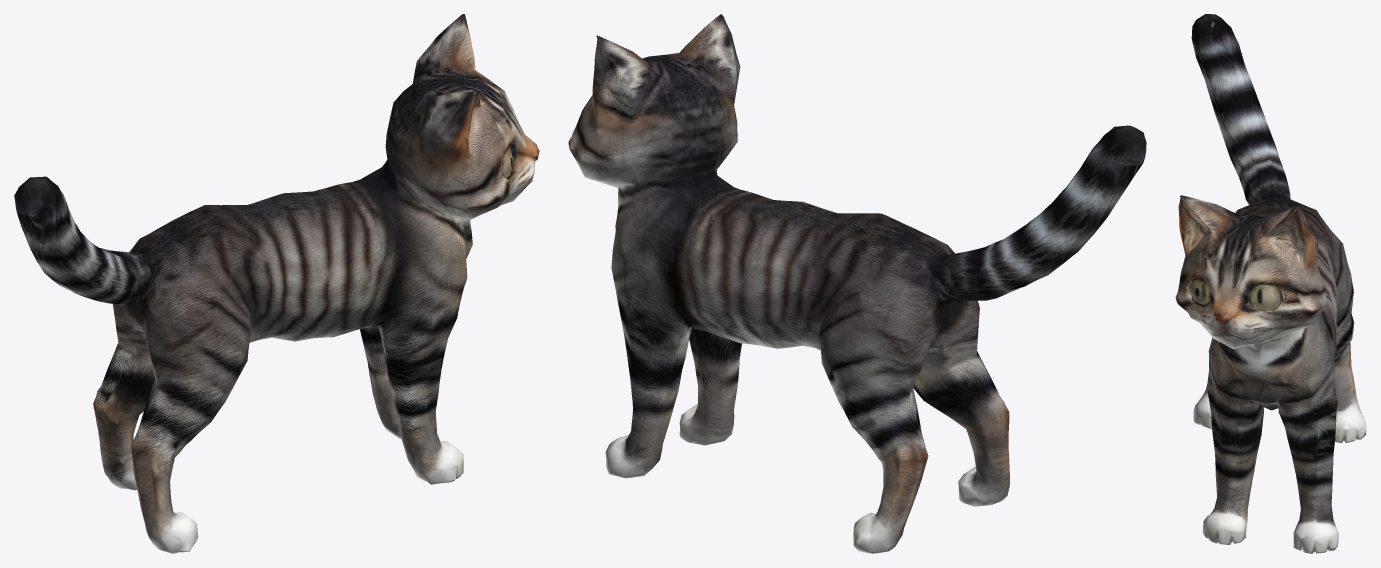
The model's file is SOCKFOOT.glb.
3 renders of one model, left to right at view 1: azimuth 30°, elevation 25°; view 2: azimuth 150°, elevation 25°; view 3: azimuth 270°, elevation 25°, orthographic. The views are drawn at different scales.
Visible parts, largest first — view 1: fit; view 2: fit; view 3: fit.
Boxes of the visible parts, <box> form: fit: <box>14,14,539,553</box>; fit: <box>568,14,1146,553</box>; fit: <box>1175,14,1366,553</box>.
Bounding box in the file's own units: 1.34 × 1 × 0.4829.
1 material, 1 textured.
